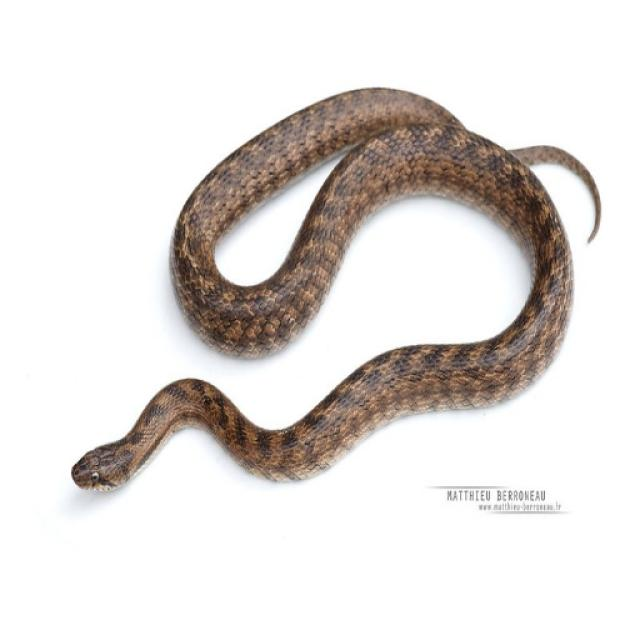snake: (46, 74, 604, 512)
